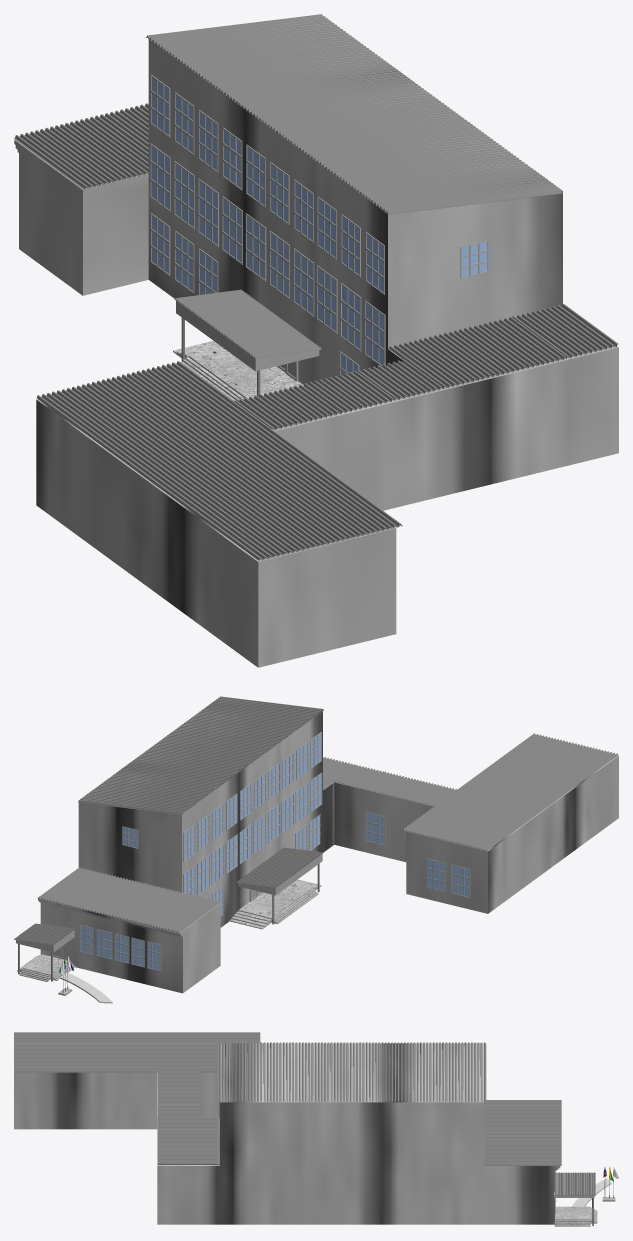
Rendered from itc.fbx.
The picture shows the model from 3 angles, top to bottom: view 1: azimuth 30°, elevation 25°; view 2: azimuth 150°, elevation 25°; view 3: azimuth 270°, elevation 25°; orthographic projection. The views are drawn at different scales.
Parts seen in each view (by area): view 1: Cube, Колледж модель.019, Колледж модель.027, Колледж модель.002, Колледж модель.055, Колледж модель.003, Колледж модель.054, Колледж модель.079, Колледж модель.083, Колледж модель.081, Колледж модель.082, Колледж модель.075 (+18 smaller); view 2: Cube, Колледж модель.019, Колледж модель.027, Колледж модель.002, Колледж модель.003, Колледж модель.055, Колледж модель.001, Колледж модель.011, Колледж модель.054, Колледж модель.018, Колледж модель.028, Колледж модель.029 (+10 smaller); view 3: Cube, Колледж модель.019, Колледж модель.027, Колледж модель.002, Колледж модель.011, Колледж модель.001, Колледж модель.016.
Part boxes in pixels (bbox=[...]): Cube: bbox=[14, 16, 618, 667]; Колледж модель.019: bbox=[37, 303, 618, 560]; Колледж модель.027: bbox=[146, 14, 562, 214]; Колледж модель.002: bbox=[14, 103, 148, 189]; Колледж модель.055: bbox=[174, 289, 321, 358]; Колледж модель.003: bbox=[173, 341, 303, 401]; Колледж модель.054: bbox=[176, 300, 319, 371]; Колледж модель.079: bbox=[245, 213, 266, 281]; Колледж модель.083: bbox=[340, 283, 361, 351]; Колледж модель.081: bbox=[293, 248, 314, 316]; Колледж модель.082: bbox=[316, 265, 337, 333]; Колледж модель.075: bbox=[150, 143, 170, 211]; Cube: bbox=[38, 697, 618, 993]; Колледж модель.019: bbox=[323, 733, 617, 850]; Колледж модель.027: bbox=[78, 696, 323, 814]; Колледж модель.002: bbox=[37, 867, 219, 932]; Колледж модель.003: bbox=[229, 879, 321, 929]; Колледж модель.055: bbox=[236, 847, 322, 887]; Колледж модель.001: bbox=[17, 954, 75, 981]; Колледж модель.011: bbox=[14, 923, 74, 944]; Колледж модель.054: bbox=[238, 854, 322, 895]; Колледж модель.018: bbox=[366, 812, 385, 845]; Колледж модель.028: bbox=[426, 858, 445, 892]; Колледж модель.029: bbox=[451, 864, 470, 898]; Cube: bbox=[14, 1043, 560, 1224]; Колледж модель.019: bbox=[14, 1032, 260, 1164]; Колледж модель.027: bbox=[218, 1042, 486, 1102]; Колледж модель.002: bbox=[484, 1100, 561, 1165]; Колледж модель.011: bbox=[555, 1172, 595, 1195]; Колледж модель.001: bbox=[554, 1206, 597, 1226]; Колледж модель.016: bbox=[572, 1178, 611, 1206].
Bounding box in the file's own units: 501 × 235 × 951.
9 materials, 4 textured.
